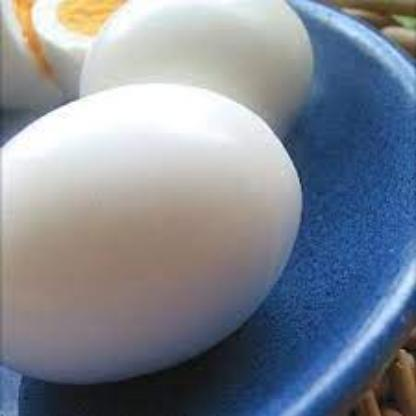egg: (0, 79, 309, 397), (73, 0, 322, 150)
